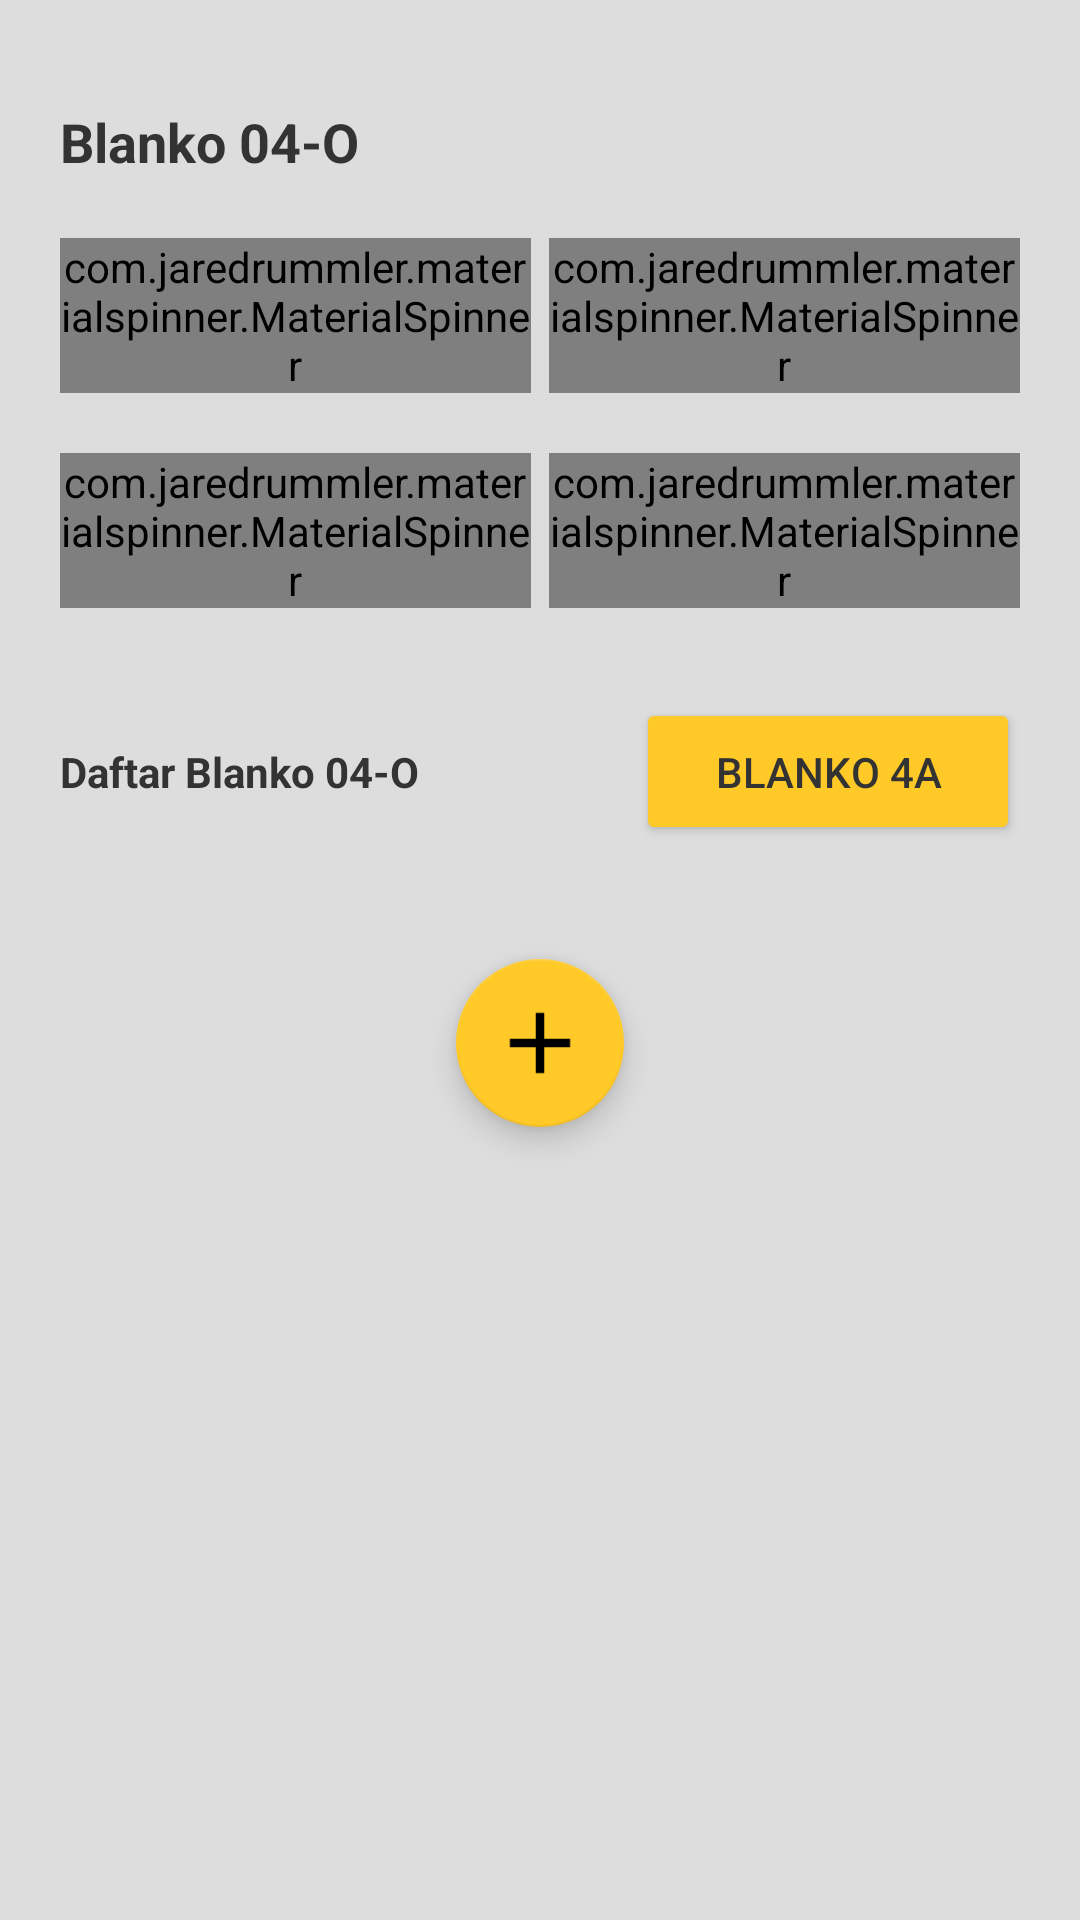

Named icons in this screenshot (1080x1920) and their bounding boxes, (x1, y1, x2, y2):
add: (456, 959, 624, 1127)
